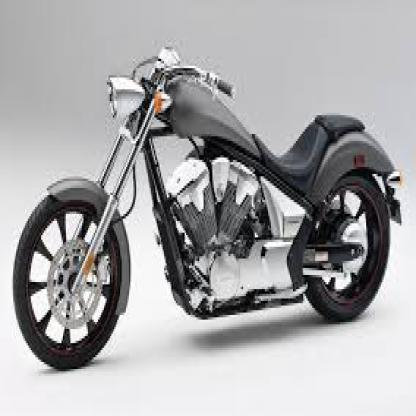Motorcycle: (6, 44, 404, 371)
